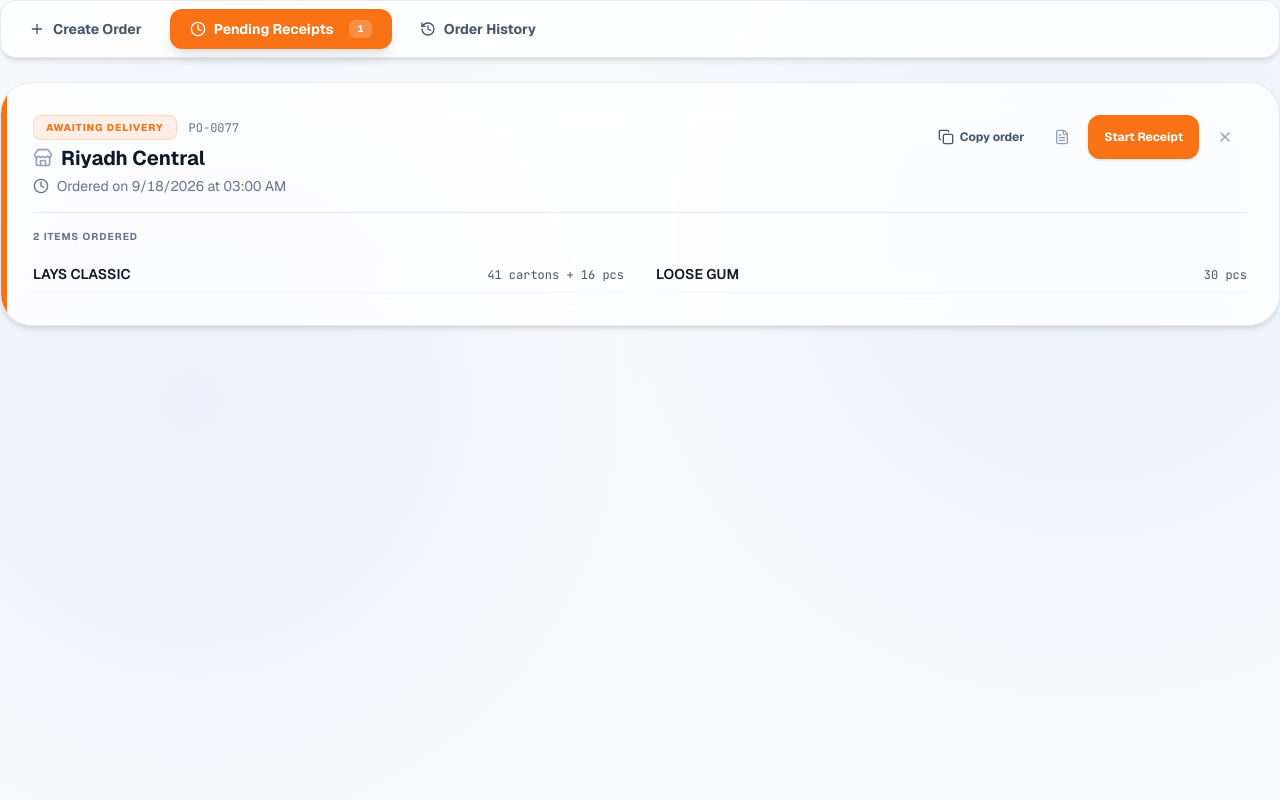
Test: OrderManagerUI — receiving a delivery in cartons › restates cartons and pieces in the confirmation
Click the button "Start Receipt": (1144, 137) [1088,115,1199,159]
(page scrolled)
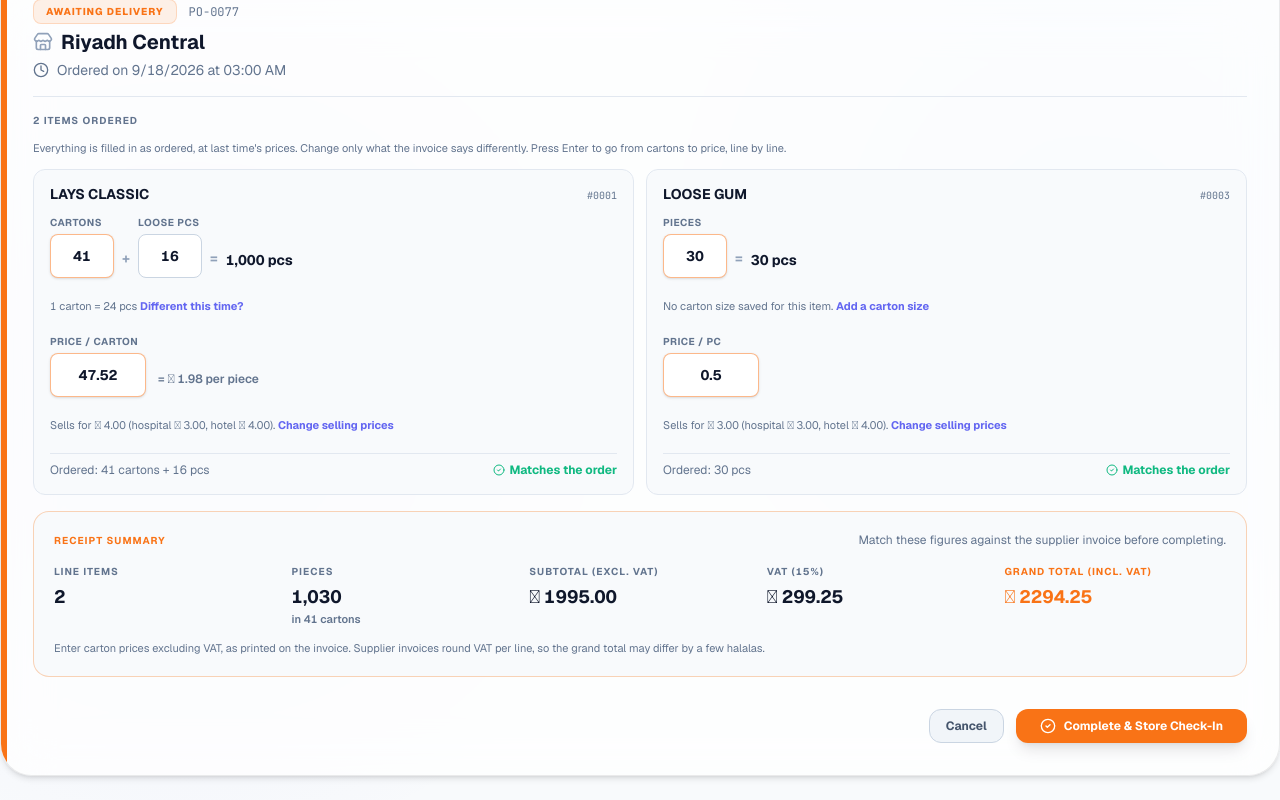
expect the field labelled "Price / carton" is shown: met, box [50,353,146,397]
Click the button "Complete & Store Check-In": (1131, 726) [1016,709,1247,743]
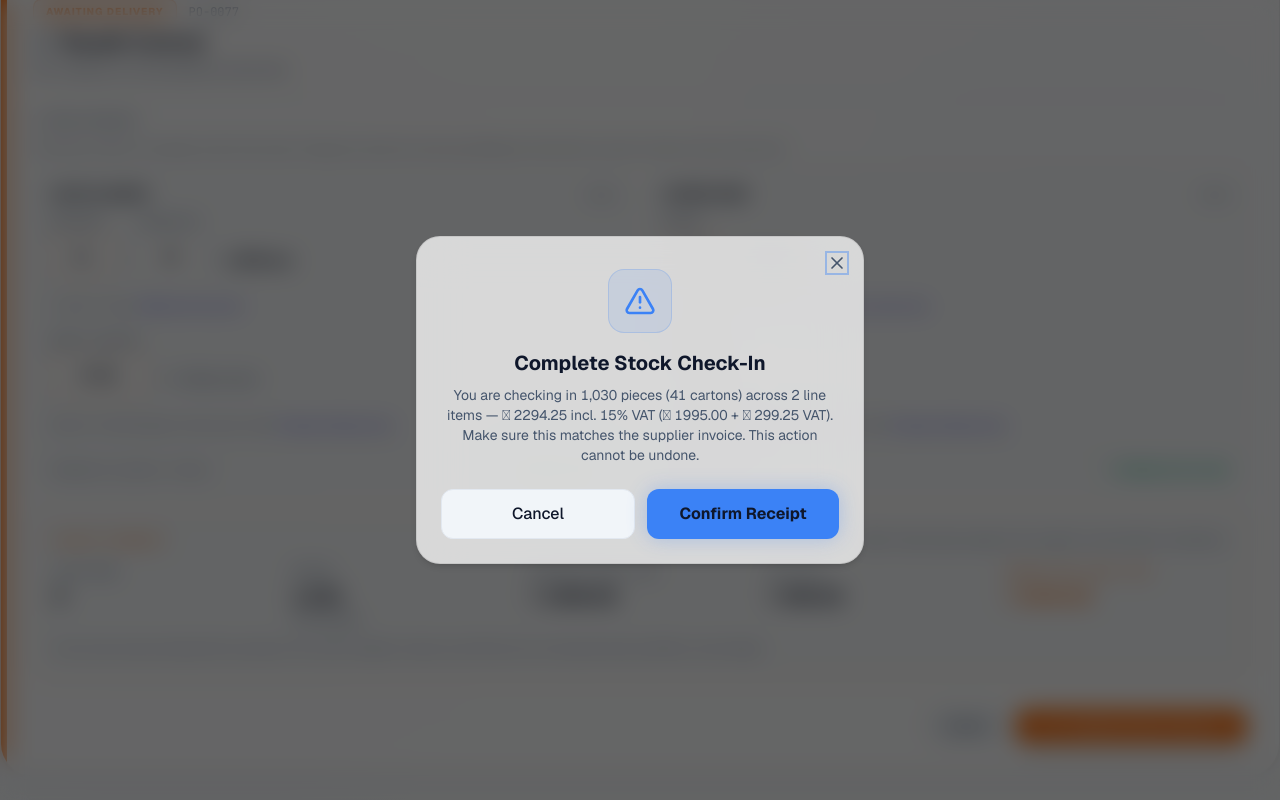
expect the text "checking in 1,030 pieces (41 cartons)" is shown: met, box [447,386,833,464]
